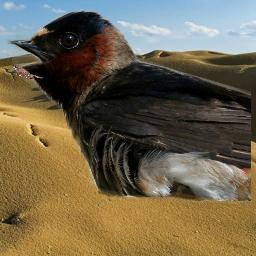Cuckoo: (10, 64, 44, 80)
Swallow: (5, 10, 251, 204)
